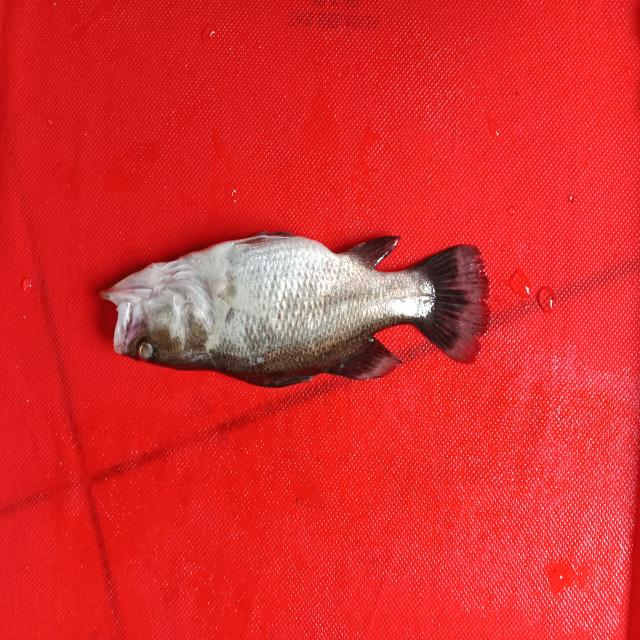ikan: (95, 216, 505, 406)
